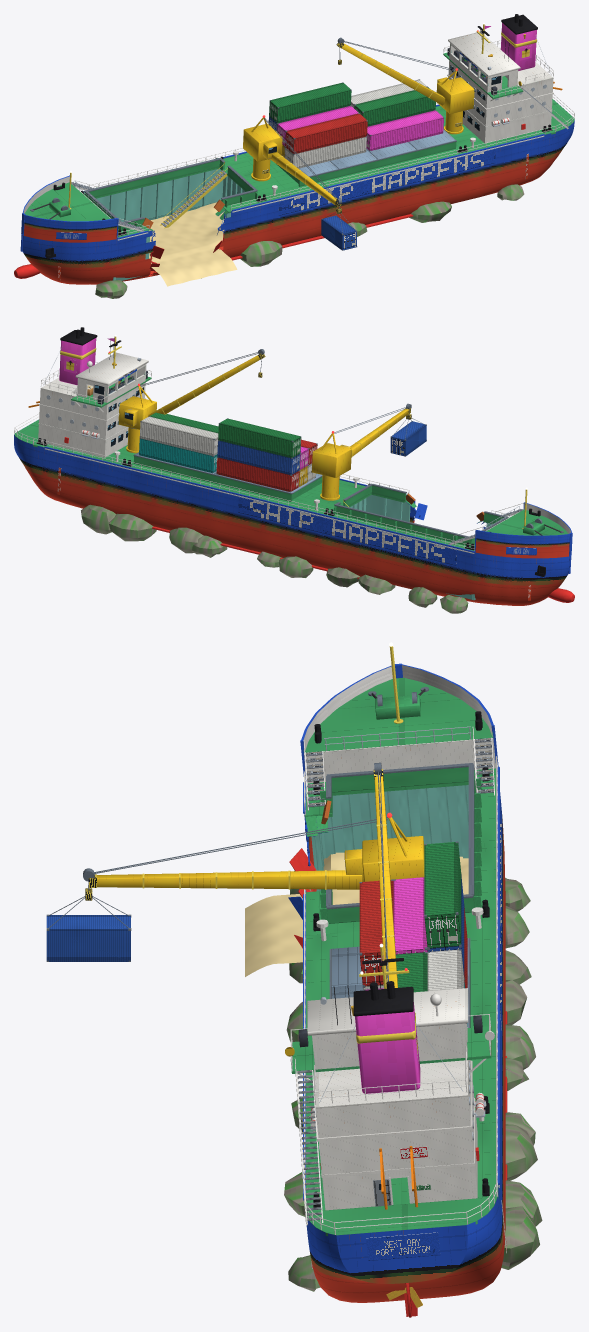
Rendered from p_wreck_ship.glb.
3 views of the same model, one above another, from view 1: azimuth 30°, elevation 25°; view 2: azimuth 150°, elevation 25°; view 3: azimuth 270°, elevation 25° (orthographic). The views are drawn at different scales.
Parts seen in each view (by area): view 1: p_wreck_ship_lod0; view 2: p_wreck_ship_lod0; view 3: p_wreck_ship_lod0.
Boxes of the visible parts, x1,y1,x2,y2 form: p_wreck_ship_lod0: (14,14,574,298); p_wreck_ship_lod0: (14,327,574,613); p_wreck_ship_lod0: (46,642,542,1317).
Size of what is drawn, in the model's own units: 90.04 by 30.58 by 35.67.
Materials: 5 (2 with a texture image).
